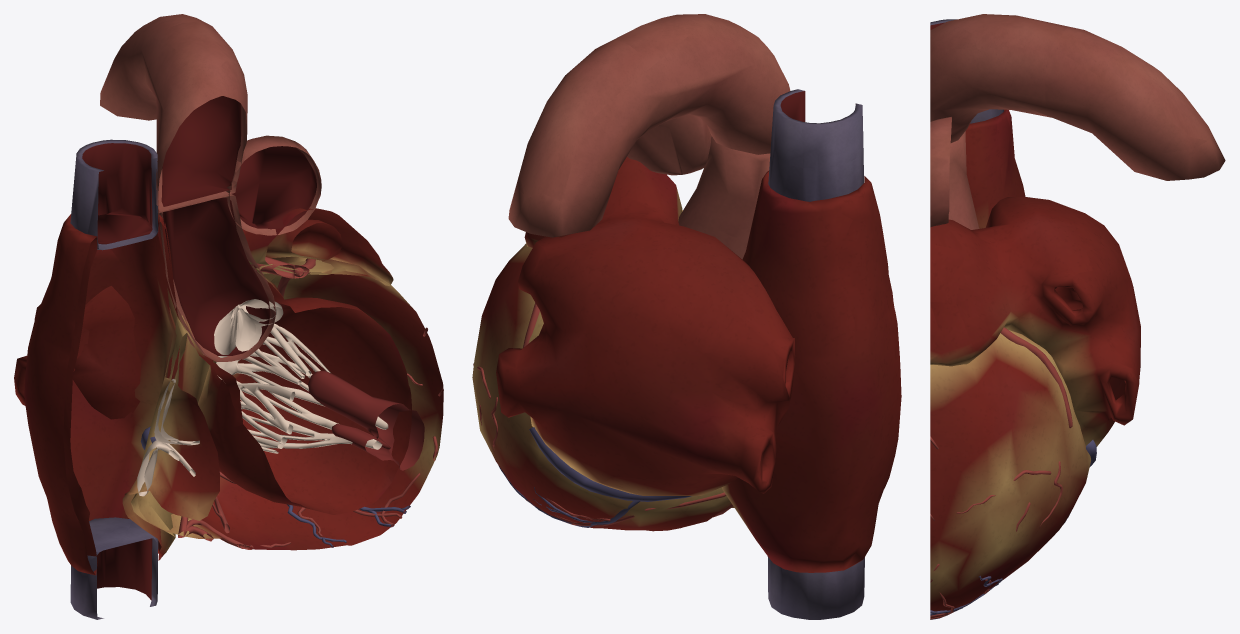
Rendered from heart3-cut.1a4d1edc.glb.
3 renders of one model, left to right at view 1: azimuth 30°, elevation 25°; view 2: azimuth 150°, elevation 25°; view 3: azimuth 270°, elevation 25°, orthographic. The views are drawn at different scales.
Visible parts, largest first — view 1: Heart_Wall_LeftVentricle, Heart_Wall_RightAtrium, Aorta_Arch, Heart_Wall_LeftAtrium, Aorta_Ascending, VenaCava_Superior, Heart_Wall_RightVentricle, PulmonaryTrunk, VenaCava_Inferior, PapillaryMuscle_LV_Lateral, Valve_Mitral_PosteriorLeaflet, Valve_Mitral_AnteriorLeaflet (+7 smaller); view 2: Heart_Wall_LeftAtrium, Heart_Wall_RightAtrium, Aorta_Arch, Heart_Wall_LeftVentricle, VenaCava_Superior, Aorta_Ascending, VenaCava_Inferior, PulmonaryTrunk, CoronaryVein_CoronarySinus, CoronaryVein_PosteriorVeinOfLeftVentricle, CoronaryArtery_CircumflexBranch_LCA; view 3: Heart_Wall_LeftAtrium, Heart_Wall_LeftVentricle, Aorta_Arch, Heart_Wall_RightAtrium, PulmonaryTrunk, Aorta_Ascending, CoronaryArtery_CircumflexBranch_LCA.
Boxes of the visible parts, x1,y1,x2,y2 form: Heart_Wall_LeftVentricle: (186, 260, 443, 550); Heart_Wall_RightAtrium: (24, 214, 187, 575); Aorta_Arch: (100, 14, 247, 211); Heart_Wall_LeftAtrium: (14, 208, 393, 419); Aorta_Ascending: (158, 194, 275, 361); VenaCava_Superior: (70, 139, 158, 250); Heart_Wall_RightVentricle: (131, 315, 242, 543); PulmonaryTrunk: (224, 135, 321, 235); VenaCava_Inferior: (70, 517, 158, 619); PapillaryMuscle_LV_Lateral: (308, 370, 424, 470); Valve_Mitral_PosteriorLeaflet: (236, 323, 388, 449); Valve_Mitral_AnteriorLeaflet: (216, 326, 311, 453); Heart_Wall_LeftAtrium: (496, 157, 795, 495); Heart_Wall_RightAtrium: (721, 170, 901, 572); Aorta_Arch: (508, 14, 790, 237); Heart_Wall_LeftVentricle: (472, 210, 730, 531); VenaCava_Superior: (768, 89, 863, 201); Aorta_Ascending: (678, 136, 770, 259); VenaCava_Inferior: (767, 556, 864, 619); PulmonaryTrunk: (627, 114, 711, 175); CoronaryVein_CoronarySinus: (529, 427, 691, 501); CoronaryVein_PosteriorVeinOfLeftVentricle: (498, 465, 640, 527); CoronaryArtery_CircumflexBranch_LCA: (473, 303, 539, 449); Heart_Wall_LeftAtrium: (930, 197, 1140, 446); Heart_Wall_LeftVentricle: (930, 330, 1090, 618); Aorta_Arch: (930, 14, 1225, 180); Heart_Wall_RightAtrium: (965, 109, 1025, 228); PulmonaryTrunk: (930, 117, 951, 227); Aorta_Ascending: (948, 131, 979, 229); CoronaryArtery_CircumflexBranch_LCA: (930, 327, 1072, 582).
Bounding box in the file's own units: 0.1143 × 0.146 × 0.0721.
Materials: 7 (2 with a texture image).
